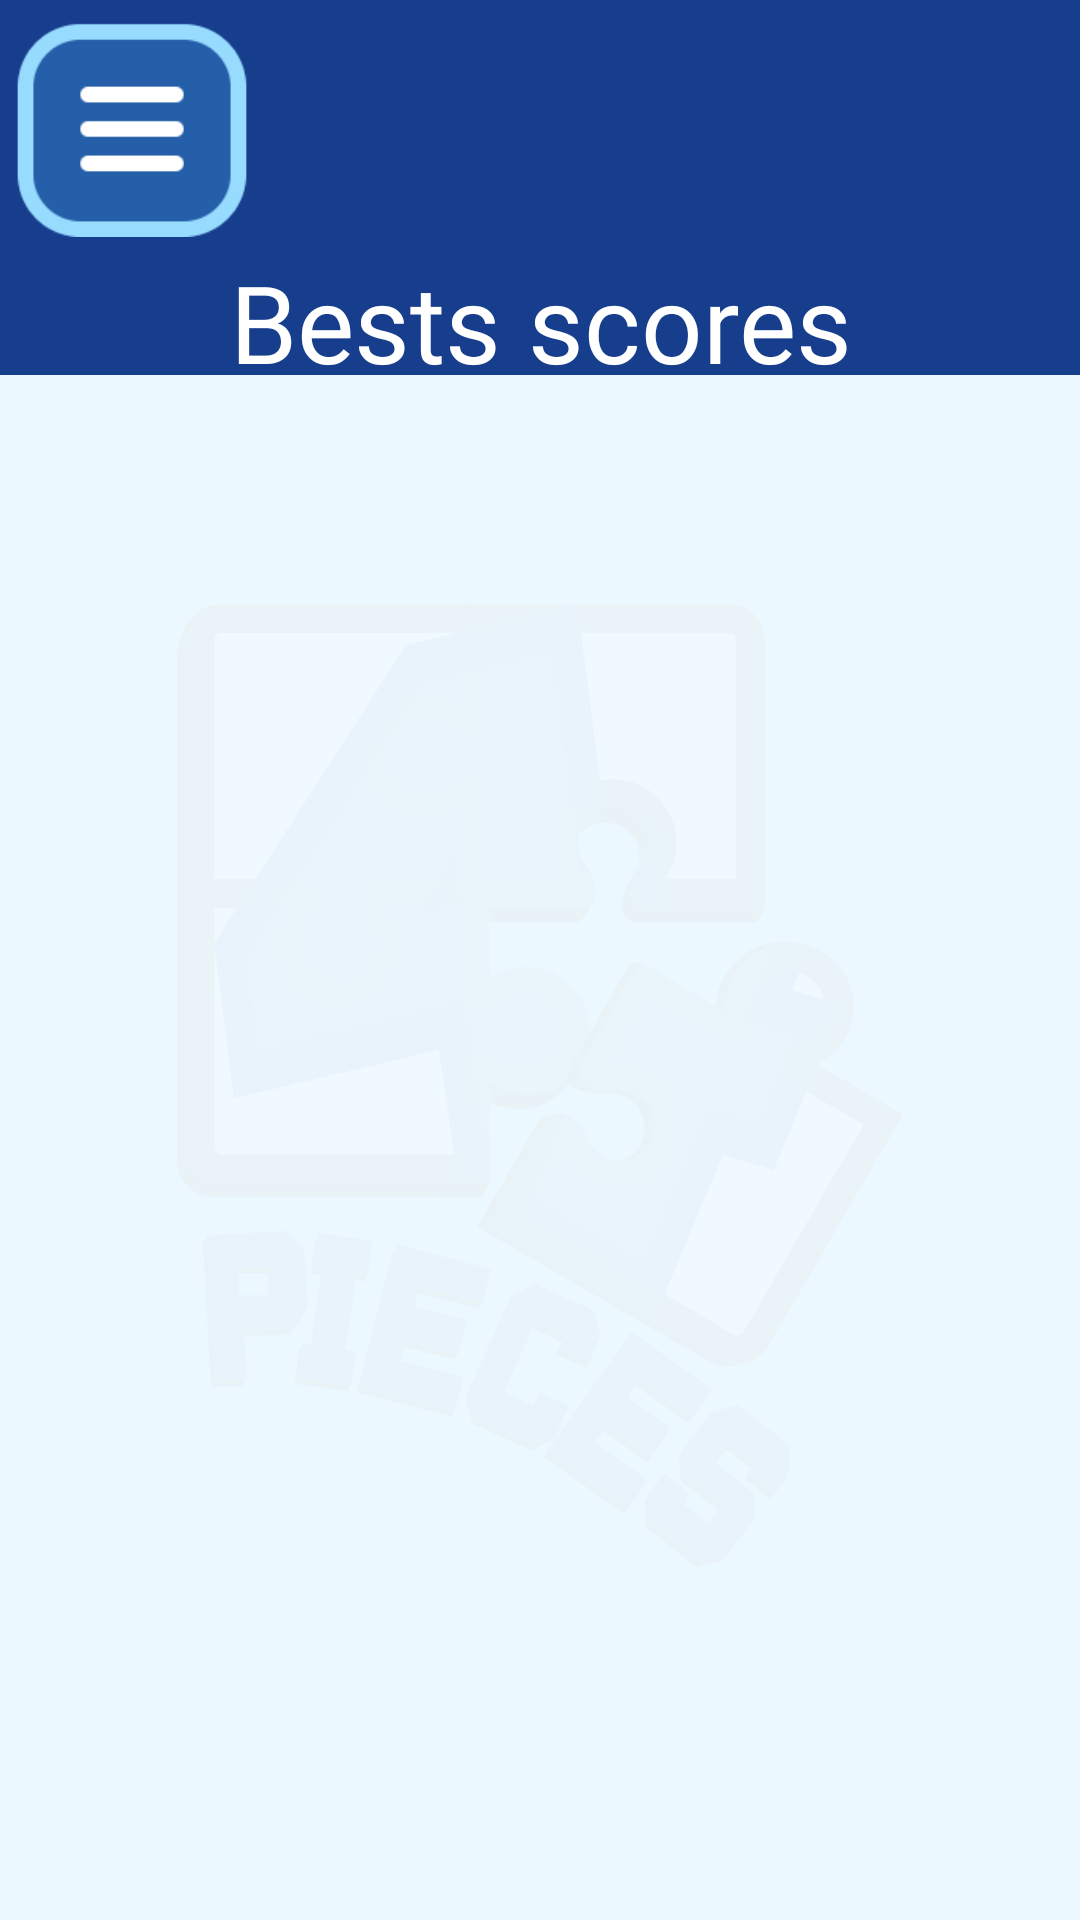

Screen size 1080×1920. Icon name, then its center in pixels as point (x, y):
menubtn: point (132, 130)
